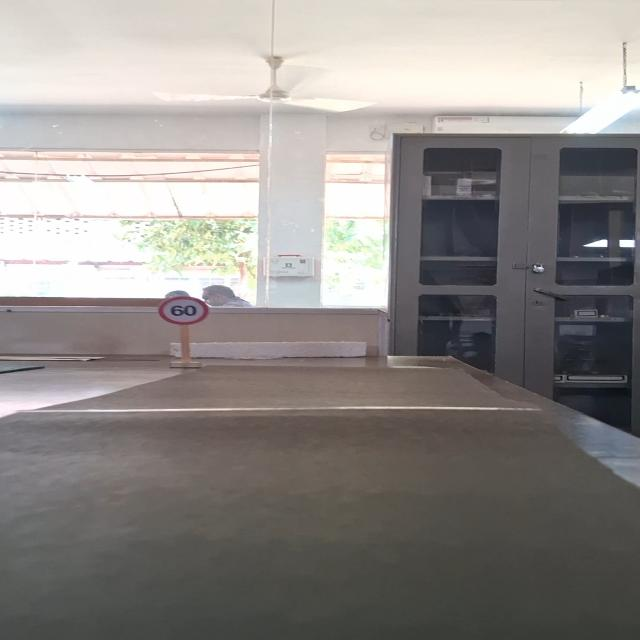Speed60: (156, 296, 210, 326)
